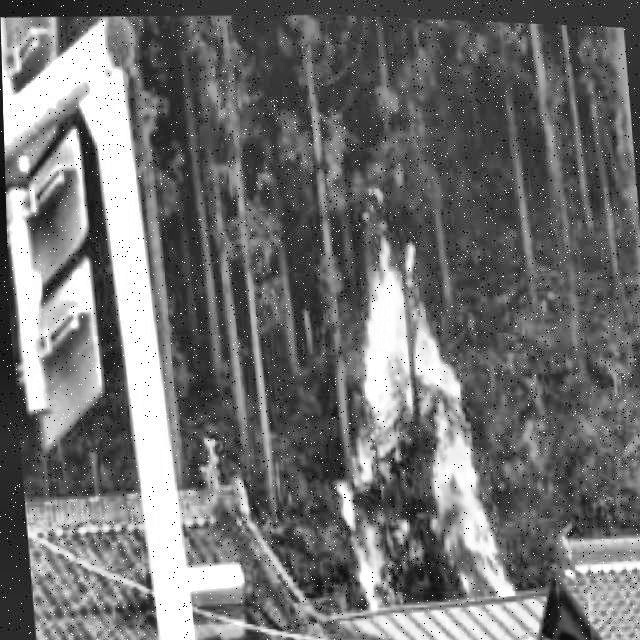Fire: (321, 221, 508, 620)
